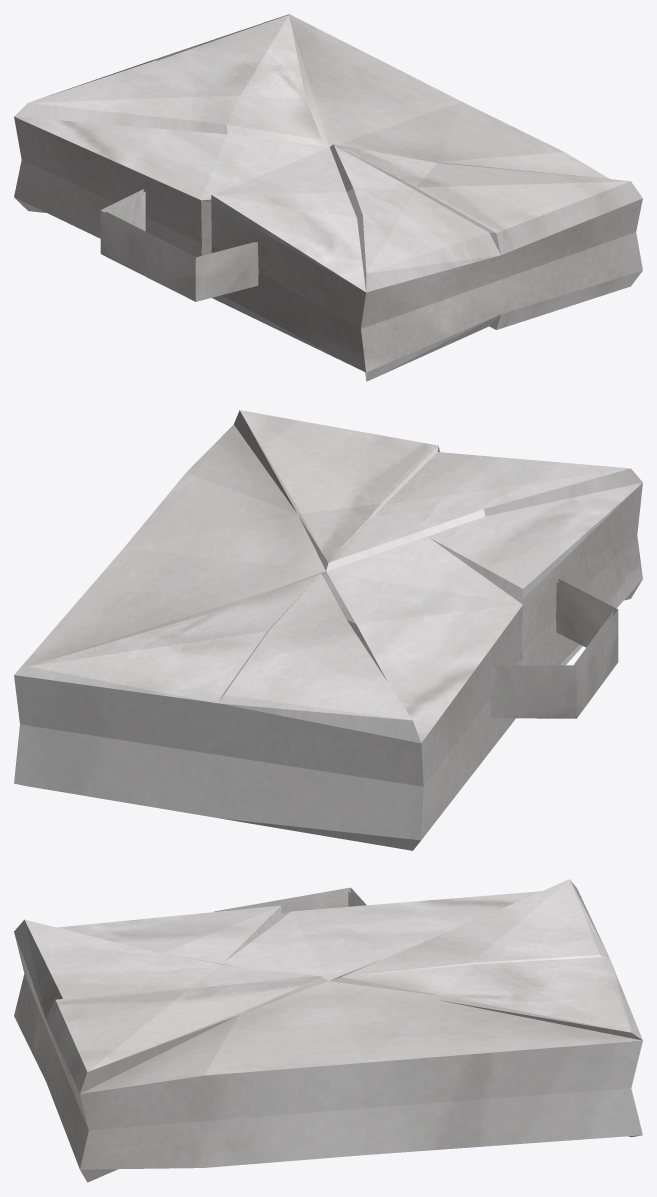
File: Maleta3.FBX
3 renders of one model, top to bottom at view 1: azimuth 30°, elevation 25°; view 2: azimuth 150°, elevation 25°; view 3: azimuth 270°, elevation 25°, orthographic. The views are drawn at different scales.
Visible parts, largest first — view 1: Maleta1; view 2: Maleta1; view 3: Maleta1.
Part boxes in pixels (left/top/right/bottom): Maleta1: left=14, top=14, right=642, bottom=381; Maleta1: left=14, top=410, right=642, bottom=850; Maleta1: left=14, top=879, right=642, bottom=1182.
Bounding box in the file's own units: 69.1 × 17.64 × 86.64.
